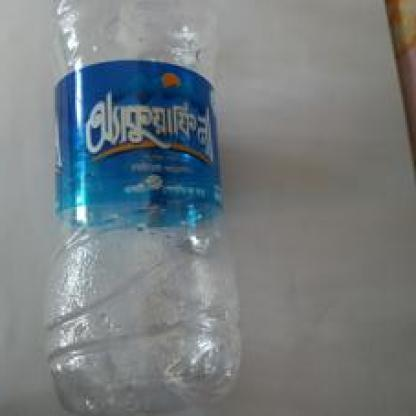bottle: (44, 0, 262, 414)
